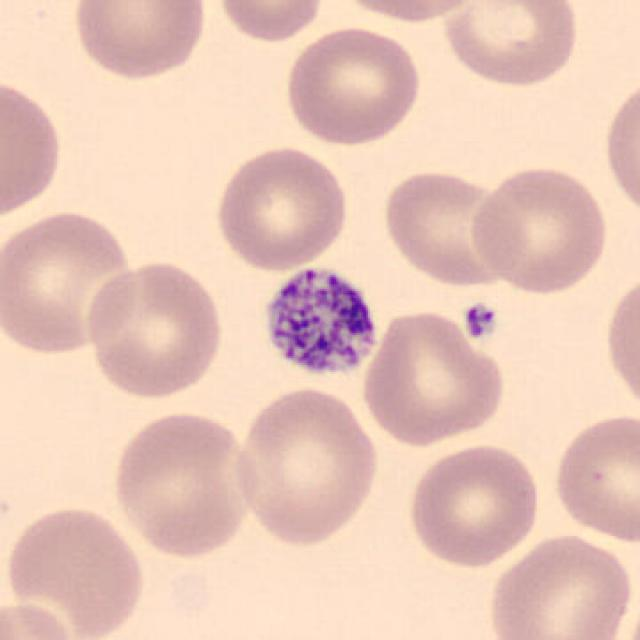Platelets: (258, 261, 382, 383), (460, 300, 500, 342)
RBC: (229, 383, 384, 550), (108, 407, 256, 561), (359, 307, 509, 448), (0, 206, 139, 358), (82, 257, 226, 402), (1, 500, 149, 640), (468, 160, 612, 296), (210, 143, 352, 273), (281, 21, 425, 148), (404, 439, 544, 569), (379, 166, 521, 291), (484, 529, 636, 640), (438, 0, 582, 90), (549, 409, 640, 547), (67, 0, 212, 83), (0, 72, 66, 226), (601, 266, 640, 420), (601, 72, 640, 226), (211, 0, 329, 44), (325, 0, 488, 26), (0, 596, 82, 640)
